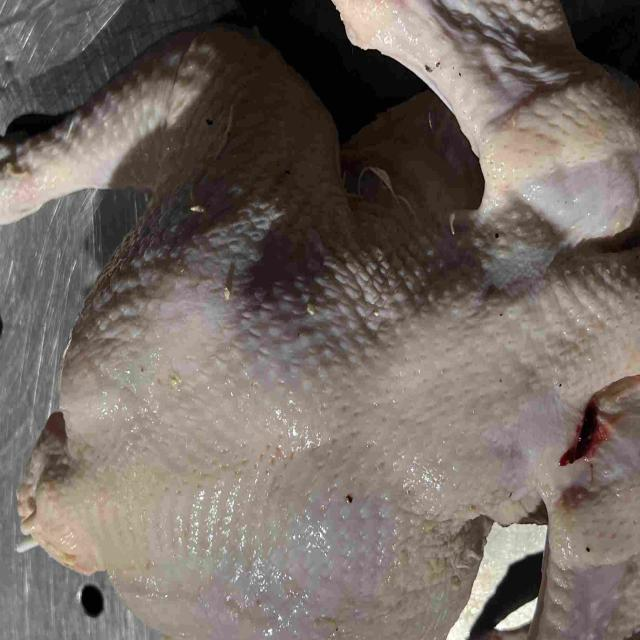back: (19, 267, 596, 640)
leg: (0, 24, 356, 307)
wing: (323, 0, 640, 262), (533, 374, 640, 640)
